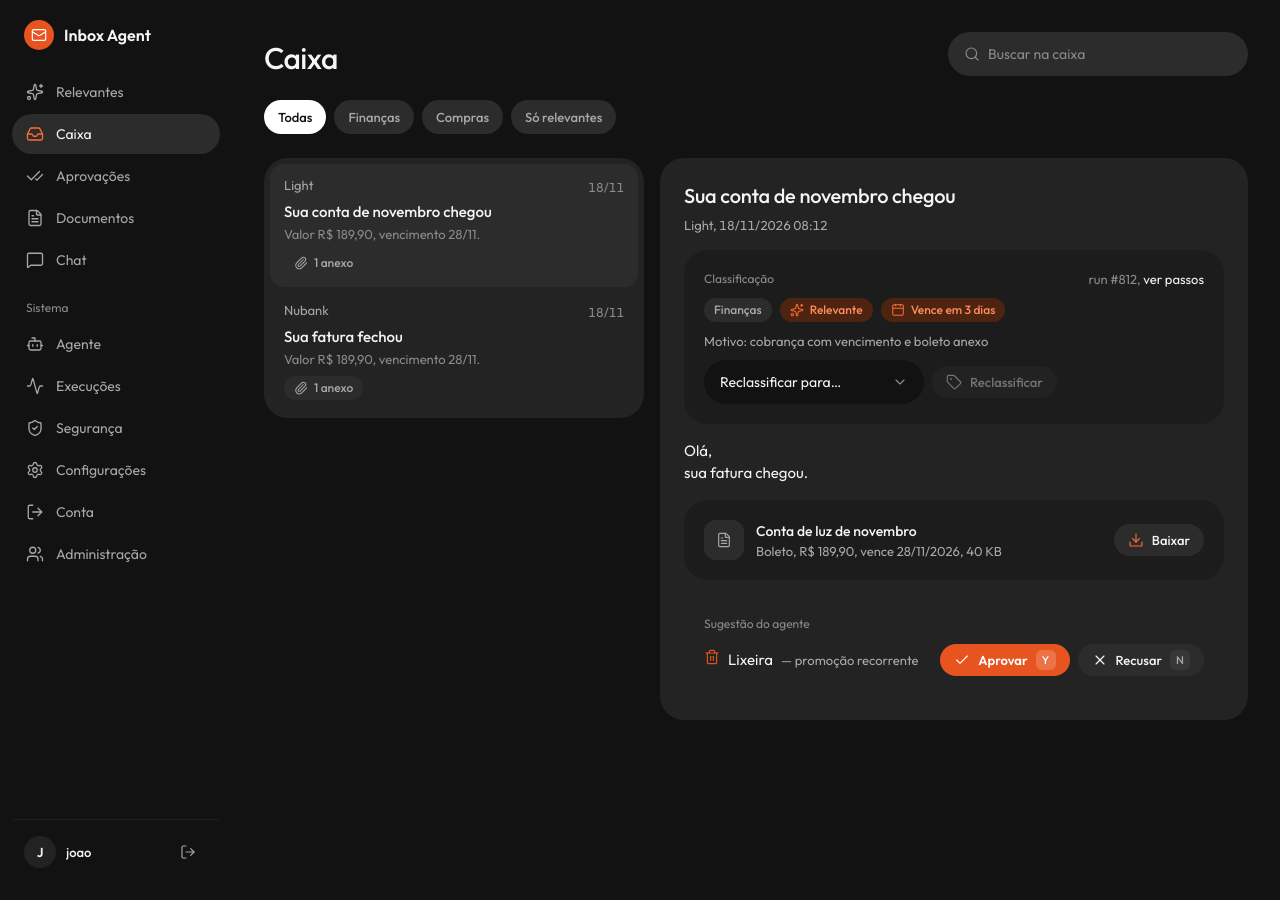
Scenario: download_gets_a_link_then_navigates_and_failure_shows_error
Click the button "Baixar". click: (1159, 540)
box: [1114,524,1204,556]
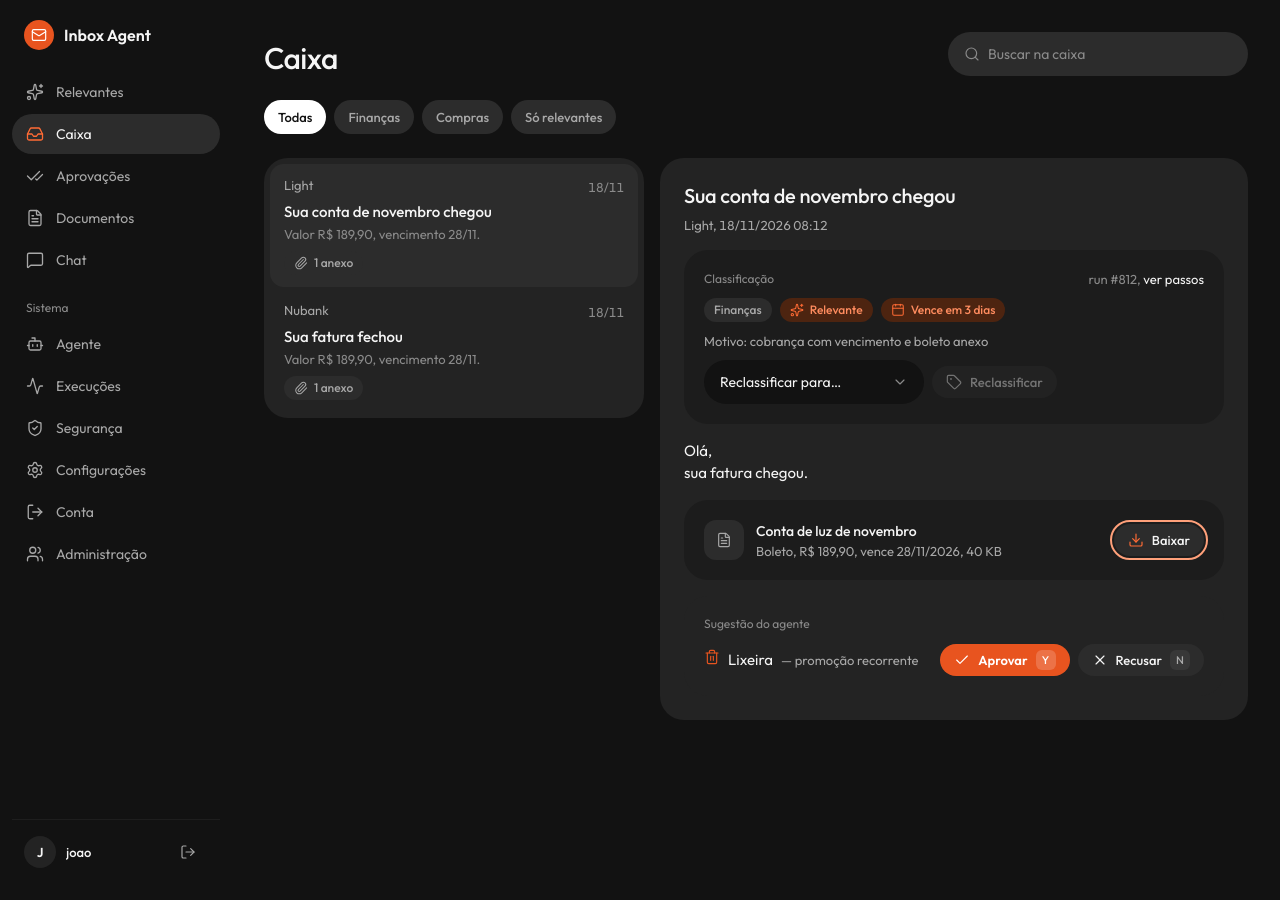
Click the button "Baixar". click: (1159, 540)
box: [1114,524,1204,556]
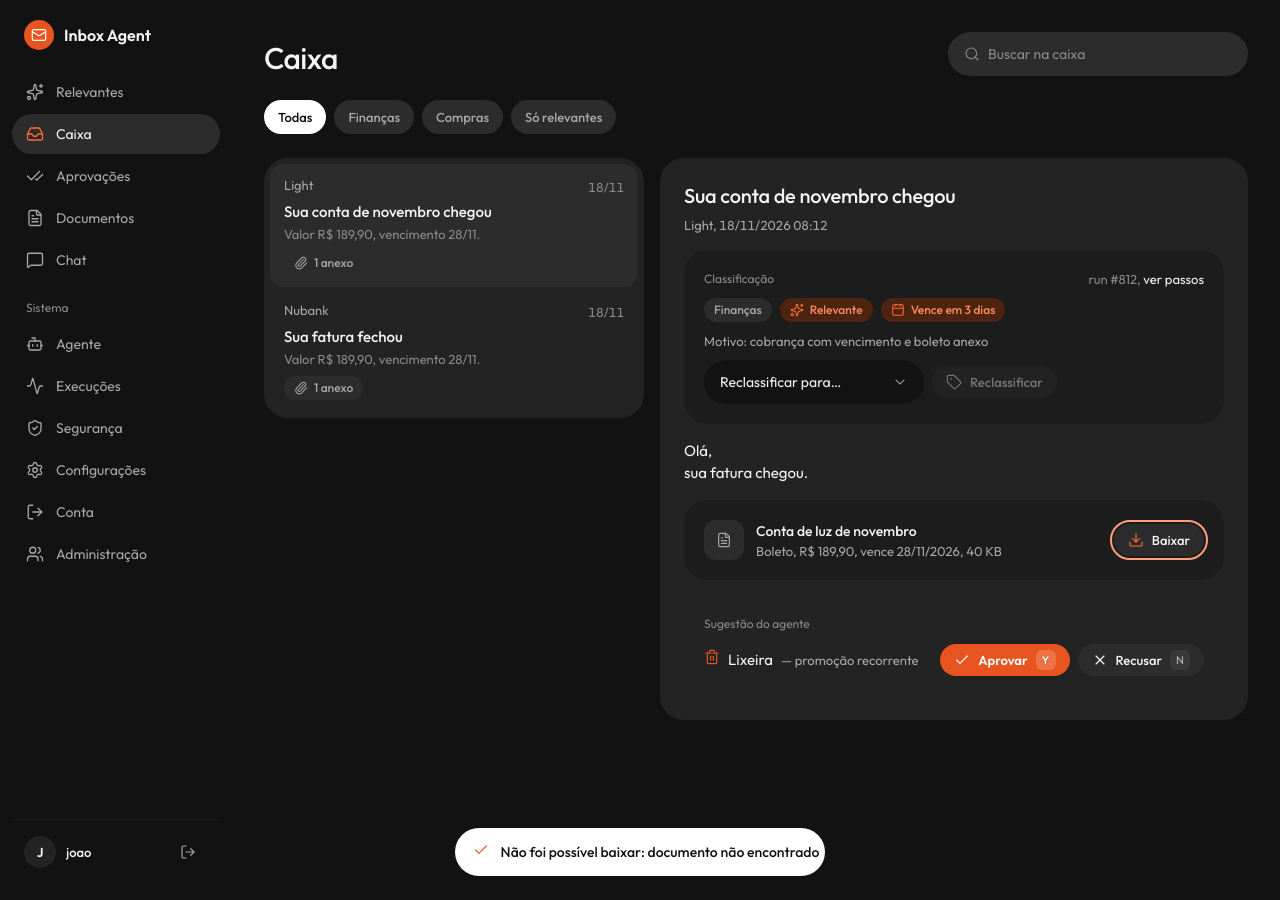
Check: the text "Não foi possível baixar: documento não encontrado" is shown, box [501,843,819,861]
